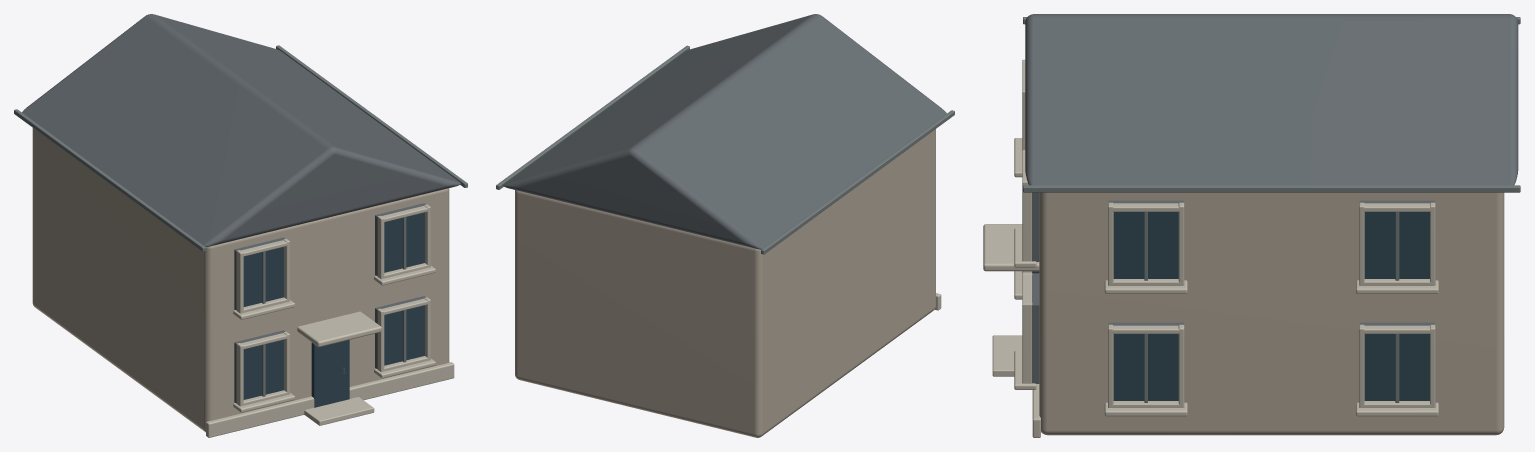
The model's file is detached-house-miniature.glb.
3 renders of one model, left to right at view 1: azimuth 30°, elevation 25°; view 2: azimuth 150°, elevation 25°; view 3: azimuth 270°, elevation 25°, orthographic. The views are drawn at different scales.
Parts seen in each view (by area): view 1: roof, wall, stone, glass, frame; view 2: wall, roof, frame; view 3: roof, wall, stone, glass, frame.
Boxes of the visible parts, <box> form: roof: <box>22,14,460,403</box>; wall: <box>32,128,449,432</box>; stone: <box>206,204,454,437</box>; glass: <box>243,212,424,407</box>; frame: <box>14,45,467,396</box>; wall: <box>515,129,935,437</box>; roof: <box>503,14,946,249</box>; frame: <box>496,45,954,254</box>; roof: <box>1025,14,1518,383</box>; wall: <box>1039,192,1504,435</box>; stone: <box>983,59,1438,437</box>; glass: <box>1032,212,1429,400</box>; frame: <box>1023,17,1520,402</box>.
Bounding box in the file's own units: 8.88 × 8.16 × 11.55.
